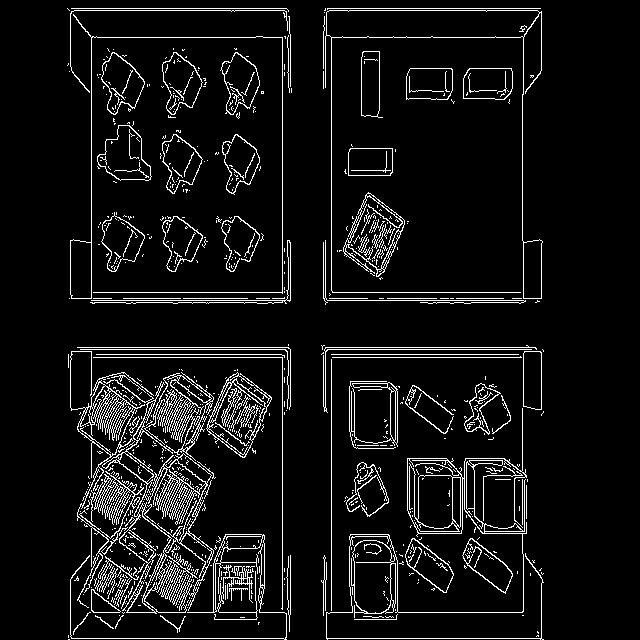Battery: (406, 538, 454, 594), (465, 538, 512, 594), (404, 386, 454, 435), (407, 68, 454, 102), (464, 68, 512, 100), (345, 145, 394, 176), (360, 52, 381, 118)
Pump: (142, 531, 212, 631), (79, 539, 155, 628), (78, 455, 155, 538), (79, 372, 154, 455), (142, 452, 214, 536), (208, 370, 271, 458), (344, 192, 405, 278), (150, 372, 214, 449), (465, 458, 526, 534), (214, 534, 265, 620), (349, 536, 398, 620), (408, 458, 461, 534), (349, 381, 398, 449)
Regulator: (98, 51, 145, 115), (162, 51, 206, 118), (99, 212, 146, 272), (222, 49, 260, 119), (217, 216, 264, 272), (464, 384, 511, 438), (163, 216, 208, 272), (345, 462, 389, 518), (161, 134, 202, 194), (222, 134, 260, 195)
Sensor: (92, 124, 149, 193)
